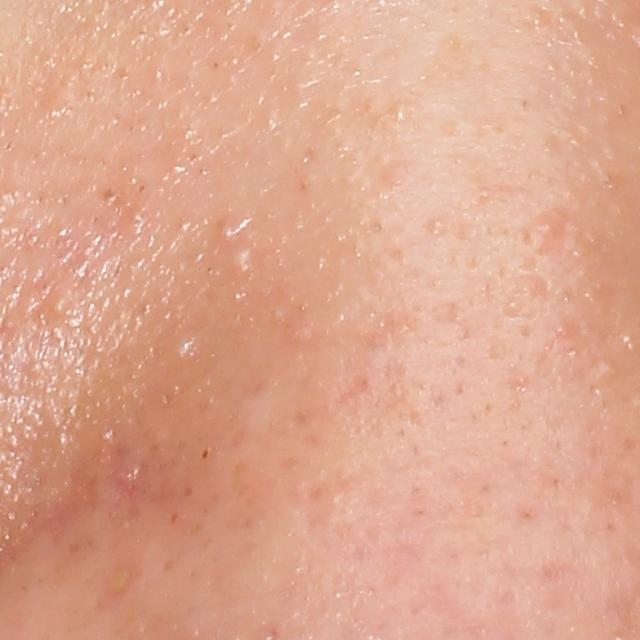comedo: (46, 293, 73, 318), (217, 218, 238, 242)
